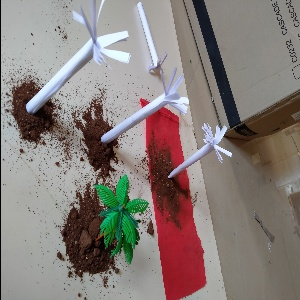plant: (82, 173, 159, 260)
weed: (18, 18, 130, 109), (90, 74, 192, 142), (161, 126, 244, 182), (130, 1, 172, 72)
